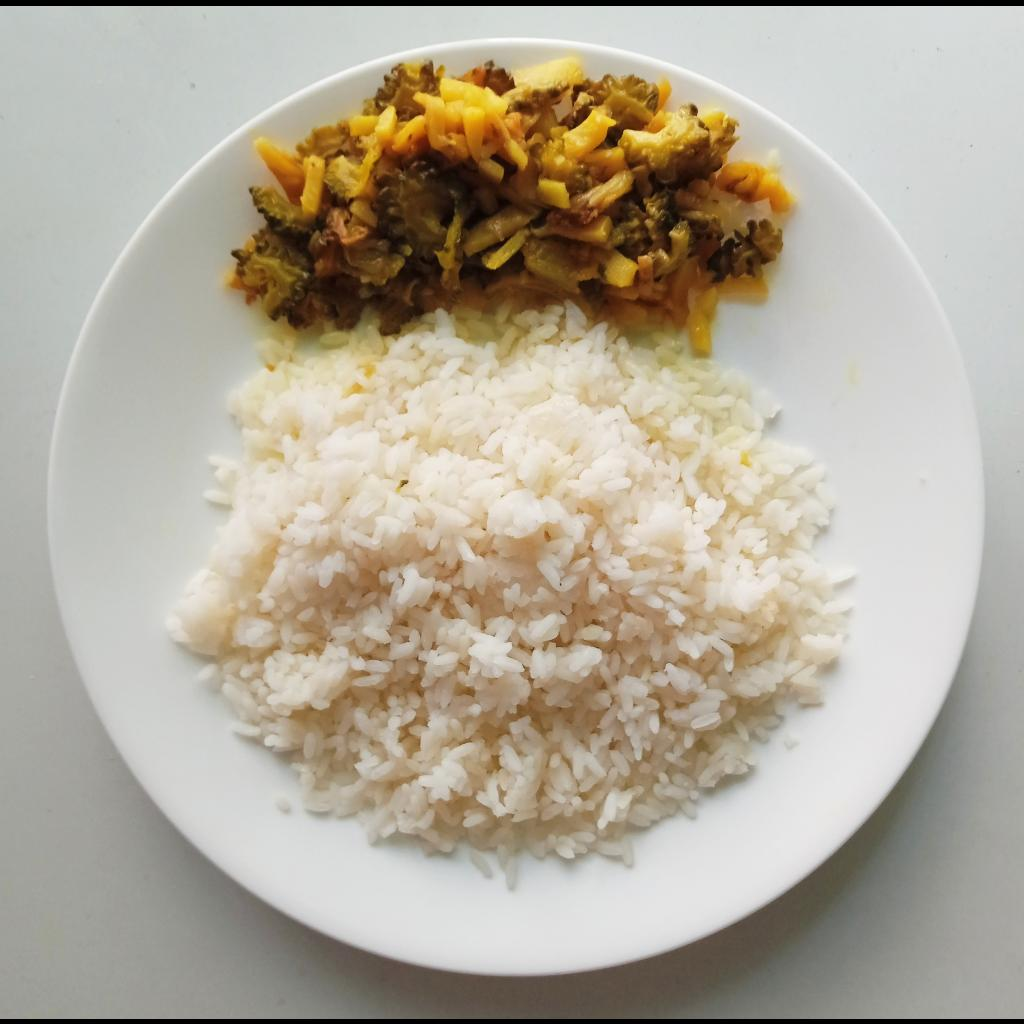korola-vaji: (226, 57, 795, 340)
rice: (163, 305, 867, 887)
